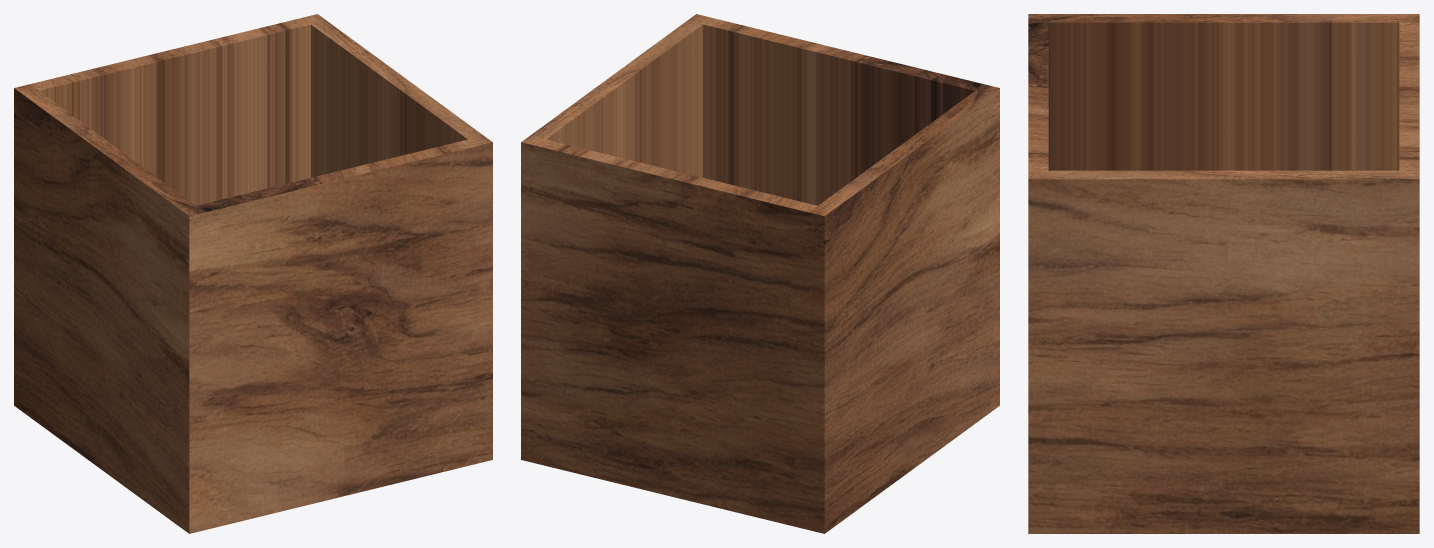
Rendered from basket.glb.
3 renders of one model, left to right at view 1: azimuth 30°, elevation 25°; view 2: azimuth 150°, elevation 25°; view 3: azimuth 270°, elevation 25°, orthographic. The views are drawn at different scales.
Parts seen in each view (by area): view 1: 立方体.011; view 2: 立方体.011; view 3: 立方体.011.
Part boxes in pixels (x1,y1,x2,y2): 立方体.011: (14, 14, 492, 533); 立方体.011: (521, 14, 999, 533); 立方体.011: (1028, 14, 1419, 533).
Size of the model in its own units: 2 by 2 by 2.
Materials: 1 (1 with a texture image).
